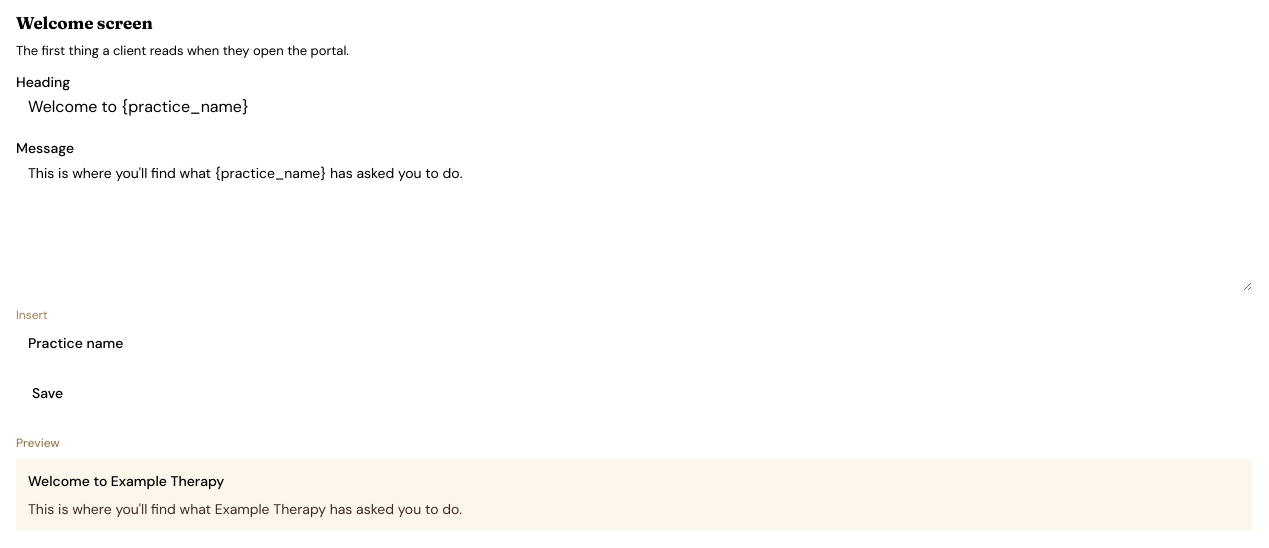
PortalWelcomeCard › shows markup literally rather than rendering it
Replace the text in the text box labelled "Message" with "Hello <b>x</b>" at (634, 223), box [16,155,1252,291]
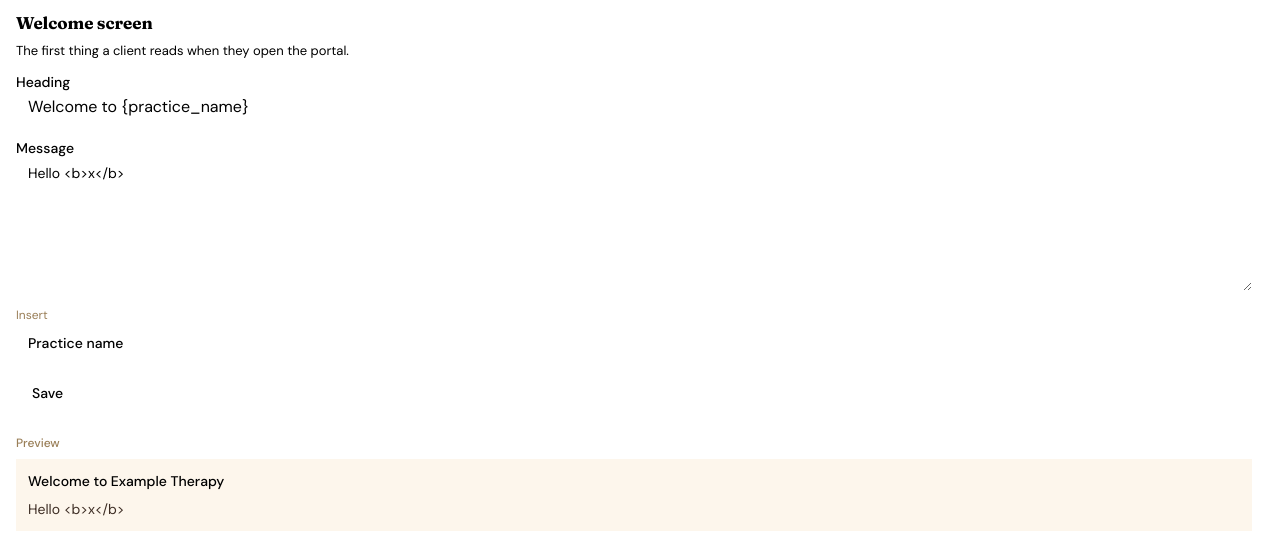
Check: the element with test id "portal-welcome-card-preview" shows "Hello <b>x</b>", box [28,500,124,518]
